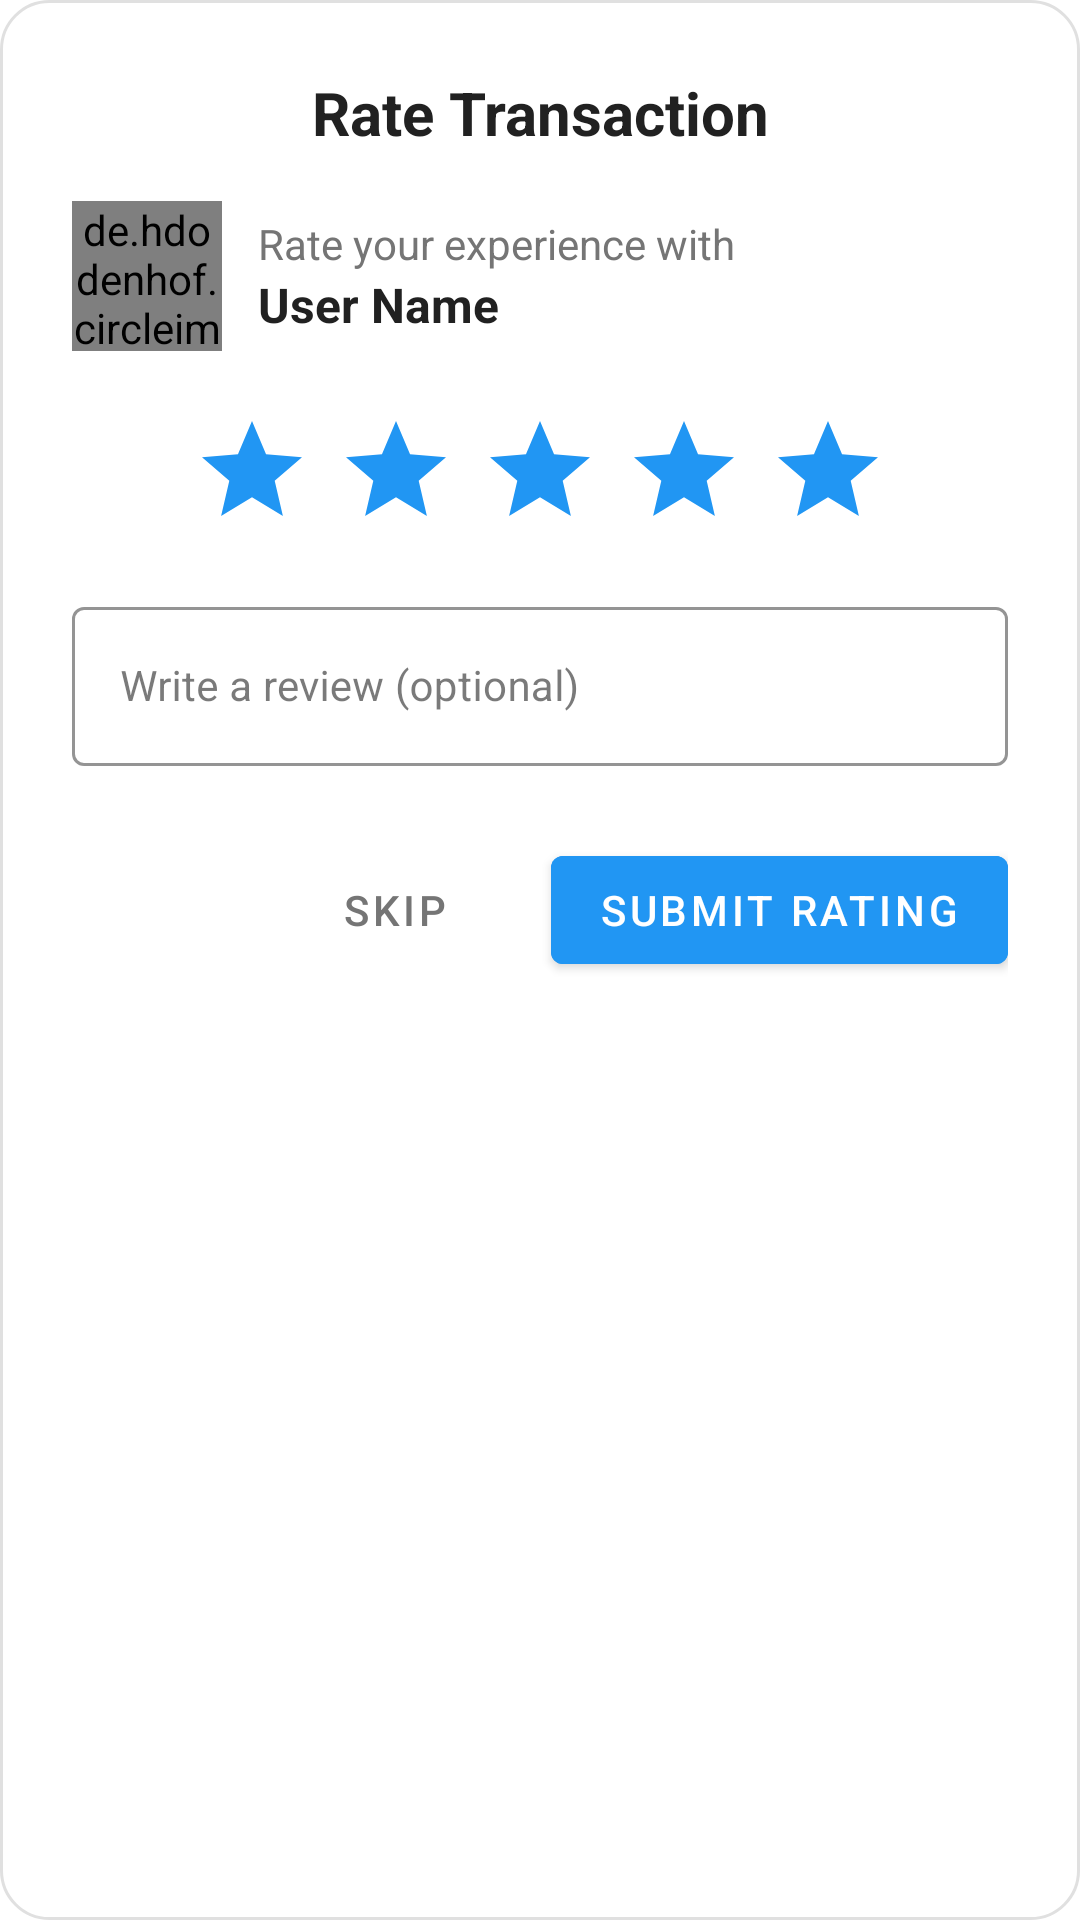

Icon bounding boxes for this 1080w x 1920h phone screenshot, format (x1, y1, x2, y2):
star: (202, 421, 302, 516), (346, 421, 446, 516), (490, 421, 590, 516), (634, 421, 734, 516), (778, 421, 878, 516)
